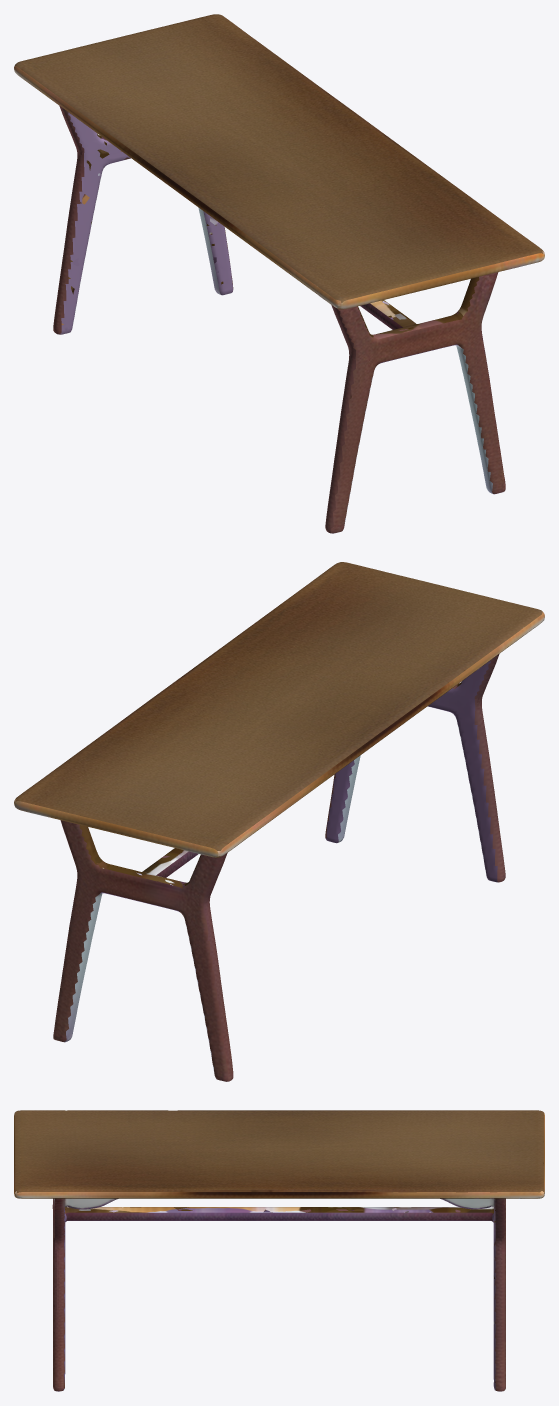
Rendered from table__table#2.glb.
3 renders of one model, top to bottom at view 1: azimuth 30°, elevation 25°; view 2: azimuth 150°, elevation 25°; view 3: azimuth 270°, elevation 25°, orthographic. The views are drawn at different scales.
Visible parts, largest first — view 1: tmpjy66dm3z.ply; view 2: tmpjy66dm3z.ply; view 3: tmpjy66dm3z.ply.
Boxes of the visible parts, <box> form: tmpjy66dm3z.ply: <box>14,14,544,533</box>; tmpjy66dm3z.ply: <box>14,562,544,1081</box>; tmpjy66dm3z.ply: <box>14,1110,544,1391</box>.
Size of the model in its own units: 0.7344 by 0.8564 by 1.99.
Materials: 1 (1 with a texture image).
